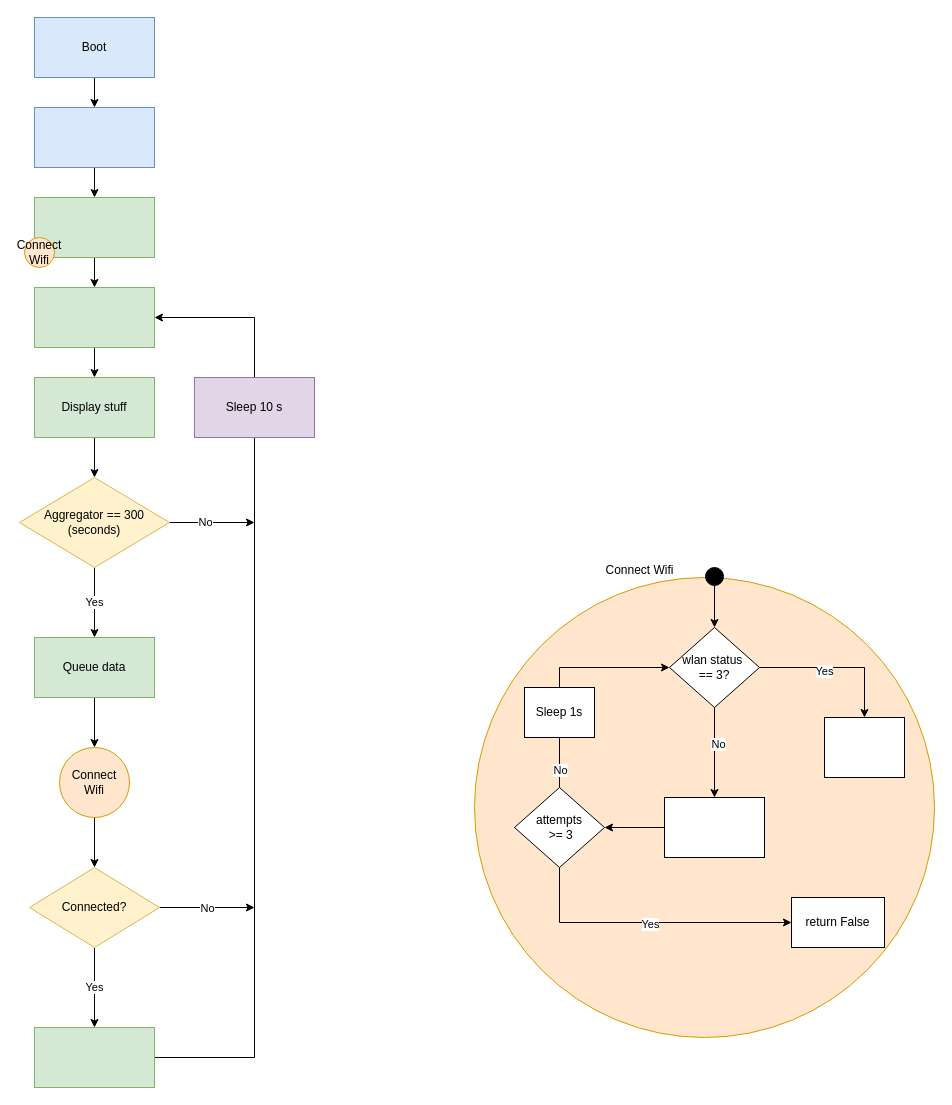
The diagram is 952 pixels wide and 1105 high, and some of its shapes have lost their labels. The shapes that lost their labels are listed below. From the top down, each one's box as (x1, y1, x2, y2) in pixels, then its label:
(34, 106, 154, 168): Initialise
(34, 196, 154, 258): get DateTime
(34, 286, 154, 348): Measure stuff
(824, 716, 904, 778): return True
(664, 796, 764, 858): Try to connect (attempts += 1)
(34, 1026, 154, 1088): Send data
